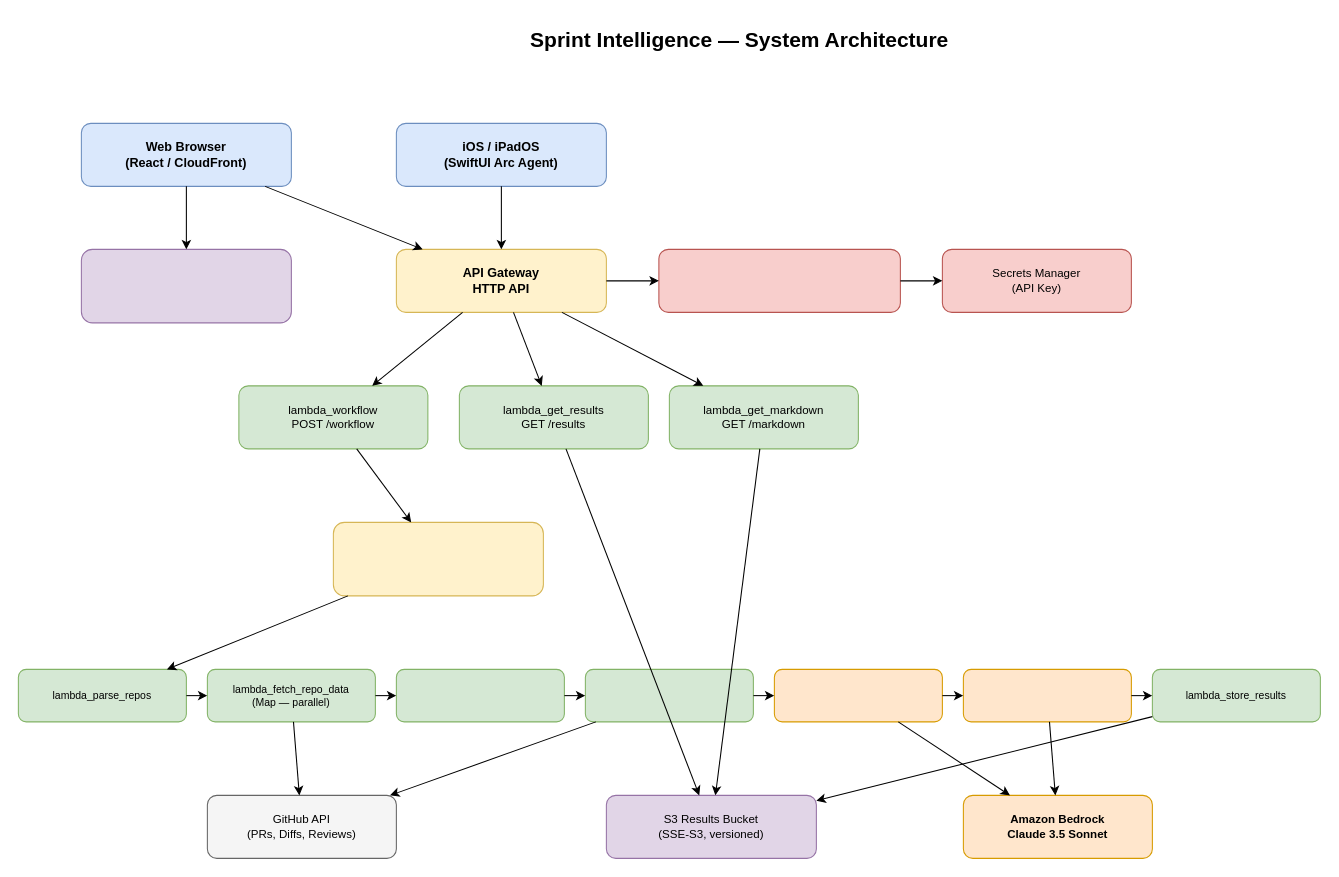
Some shapes in this 1339 by 877 pixel diagram are drawn without their labels. The shapes that lost their labels are listed below. From the top down, each one's centre as x and y in pixels, then its label:
At [185,285]: "CloudFront CDN + S3 Website Bucket (OAC)".
At [779,280]: "lambda_authorizer (x-api-key → Secrets Manager)".
At [437,558]: "Step Functions SPRINT_ANALYSIS (STANDARD)".
At [479,695]: "lambda_prepare_data".
At [668,695]: "lambda_fetch_pr_details (Map — parallel)".
At [857,695]: "lambda_analyze_pr (Bedrock Claude 3.5)".
At [1046,695]: "lambda_aggregate_sprint (Bedrock Claude 3.5)".
